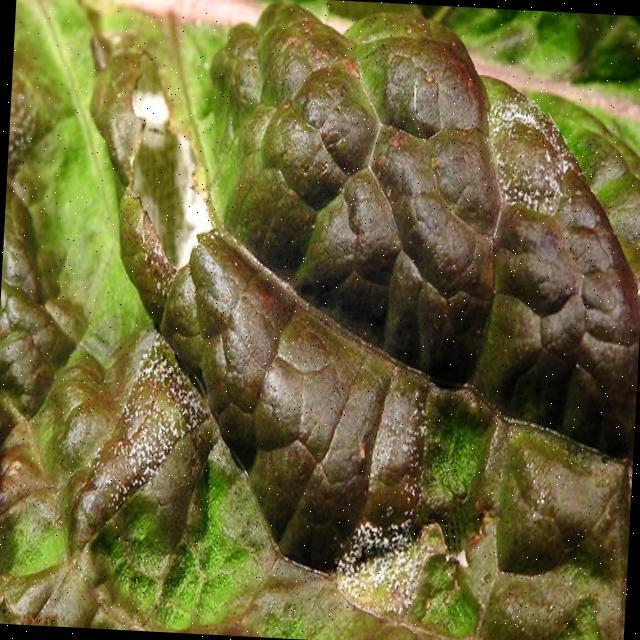Downy_mildew_on_lettuce: (215, 197, 636, 468)
